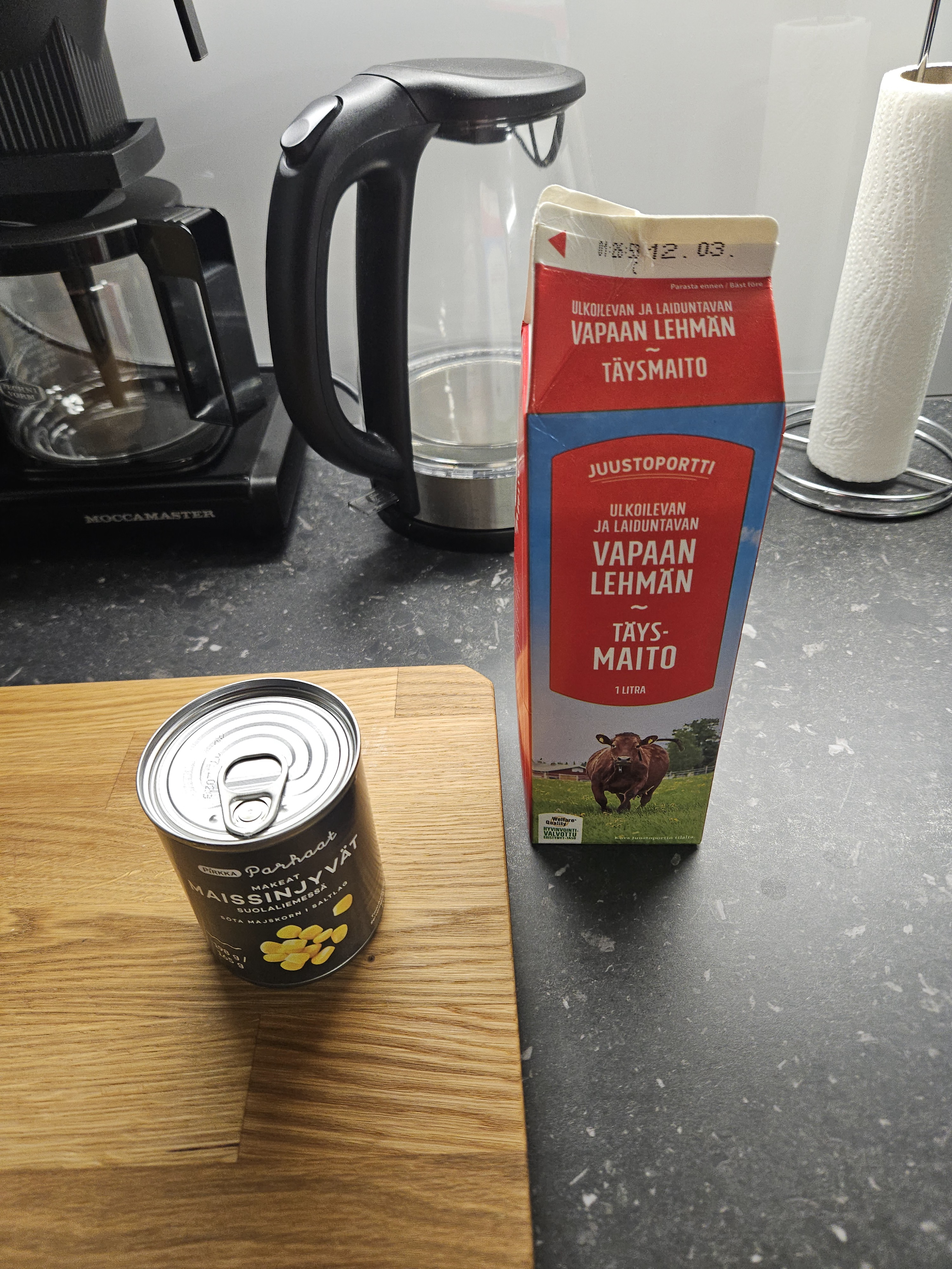Dryckeskartong: (504, 175, 793, 873)
Konservburk: (135, 678, 387, 988)
